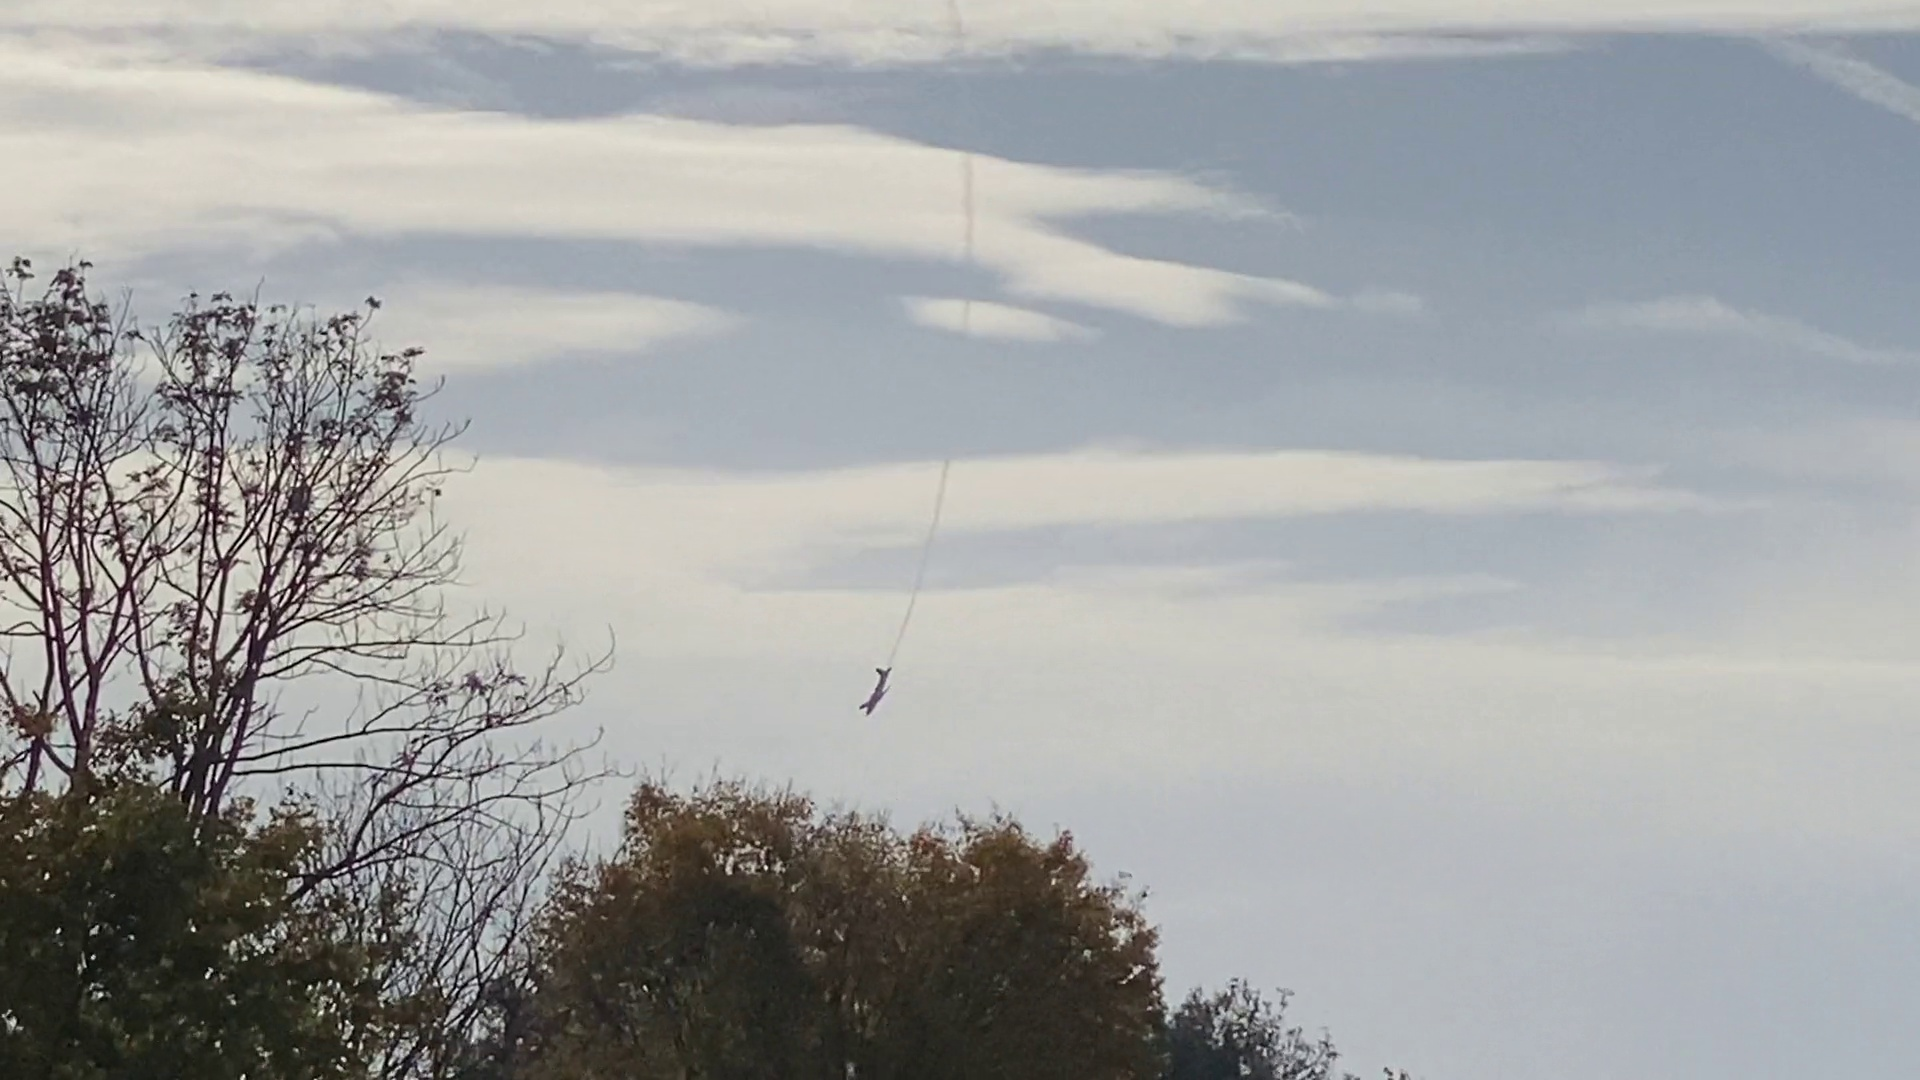plane: (861, 665, 891, 713)
